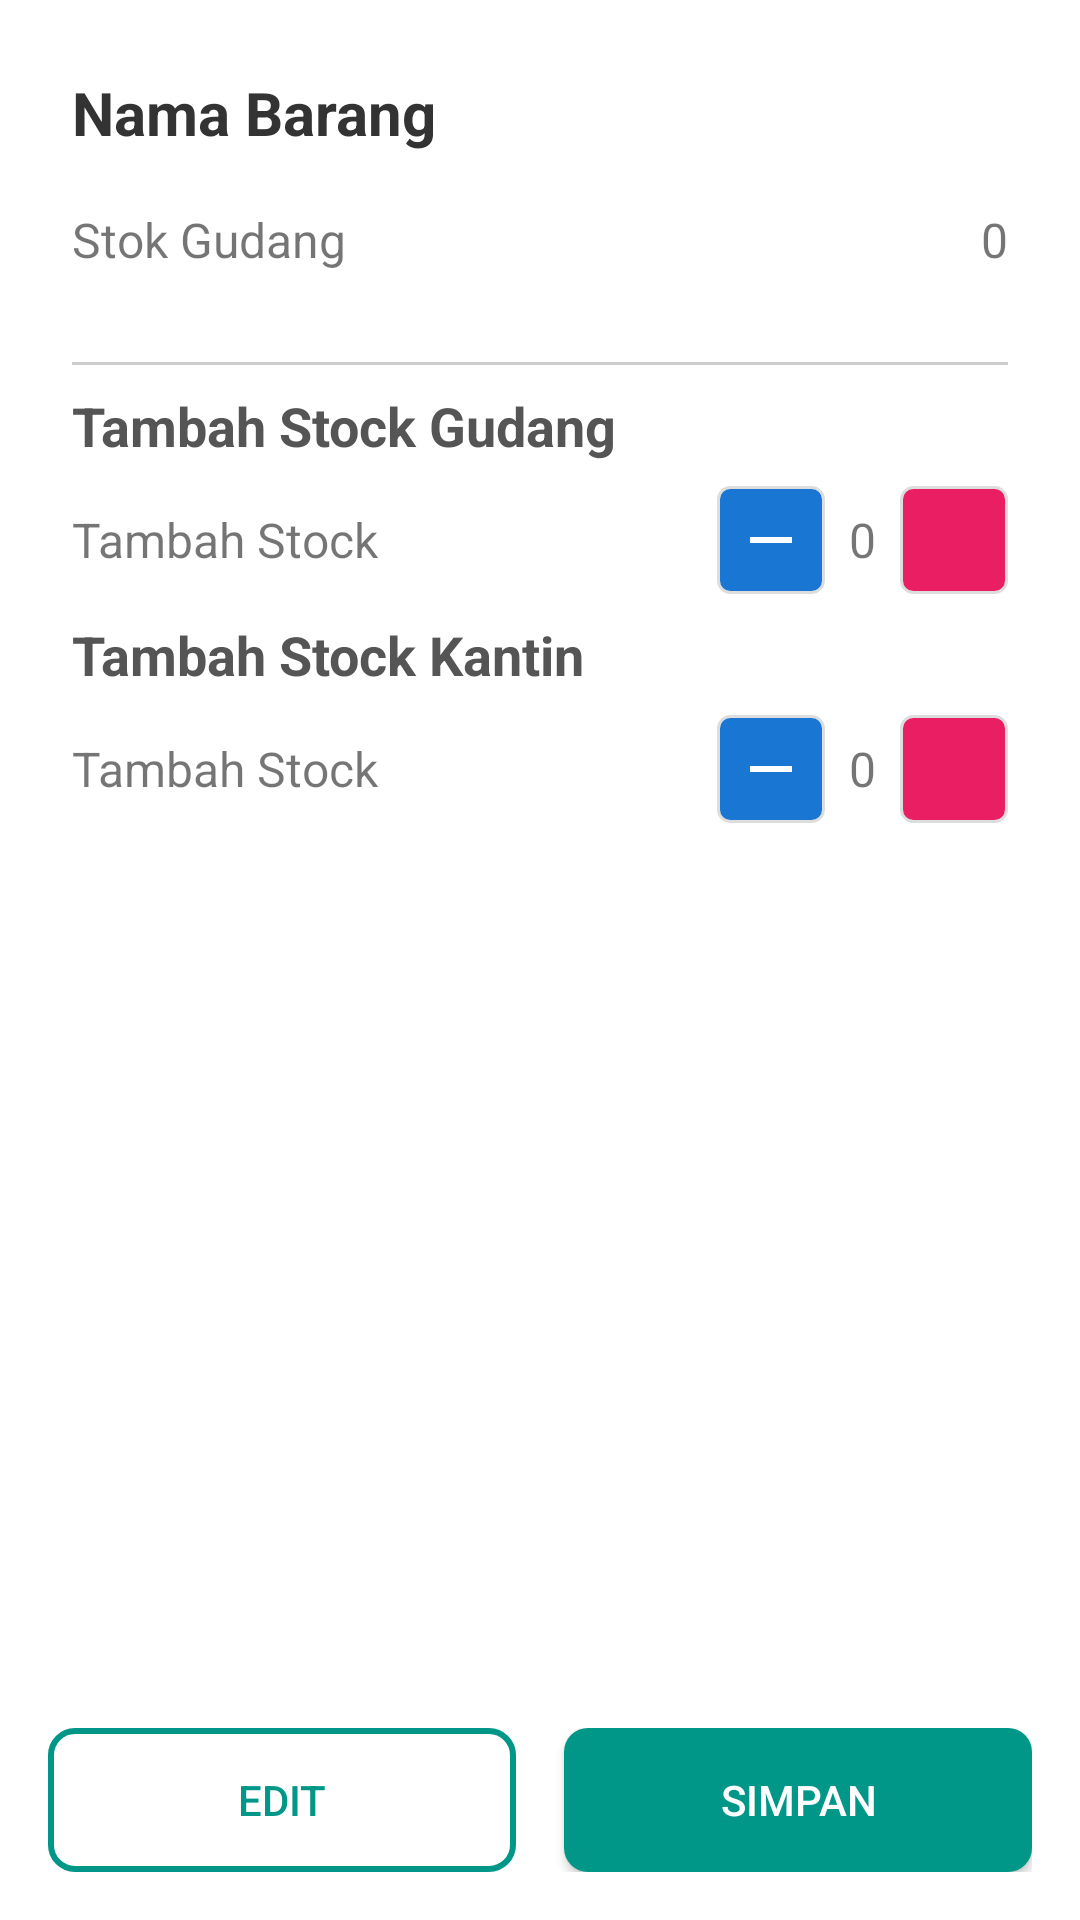

Icon bounding boxes for this 1080 × 1920 phone screenshot, format (x1, y1, x2, y2):
Kurangi: (717, 486, 825, 594), (717, 715, 825, 823)
